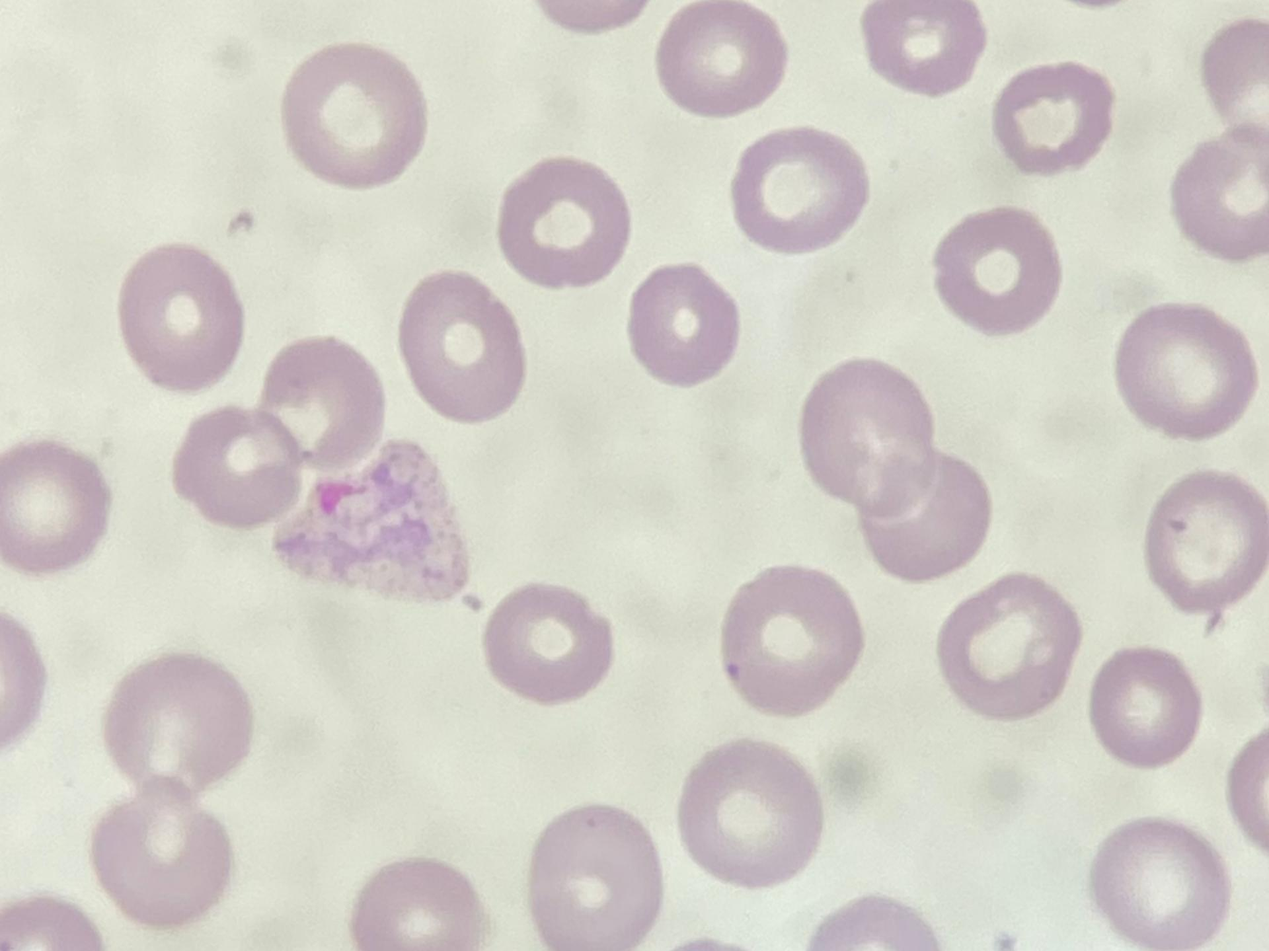Infected: (270, 436, 473, 605)
Uninfected: (677, 739, 827, 890), (102, 653, 254, 799), (722, 565, 868, 717), (803, 356, 938, 518), (935, 574, 1081, 723), (283, 42, 424, 189), (93, 782, 232, 929), (851, 437, 989, 580), (529, 805, 664, 951), (397, 270, 524, 424), (1119, 301, 1256, 441), (1089, 817, 1230, 951), (119, 242, 240, 392), (497, 157, 631, 291), (261, 334, 385, 477), (730, 129, 872, 251), (1147, 475, 1269, 614), (934, 207, 1062, 334), (486, 584, 615, 707), (656, 0, 787, 120), (172, 408, 301, 527), (0, 441, 112, 577), (990, 60, 1114, 178), (1089, 646, 1202, 769), (630, 263, 738, 388), (1173, 126, 1269, 263), (352, 855, 484, 951), (861, 0, 985, 98)
